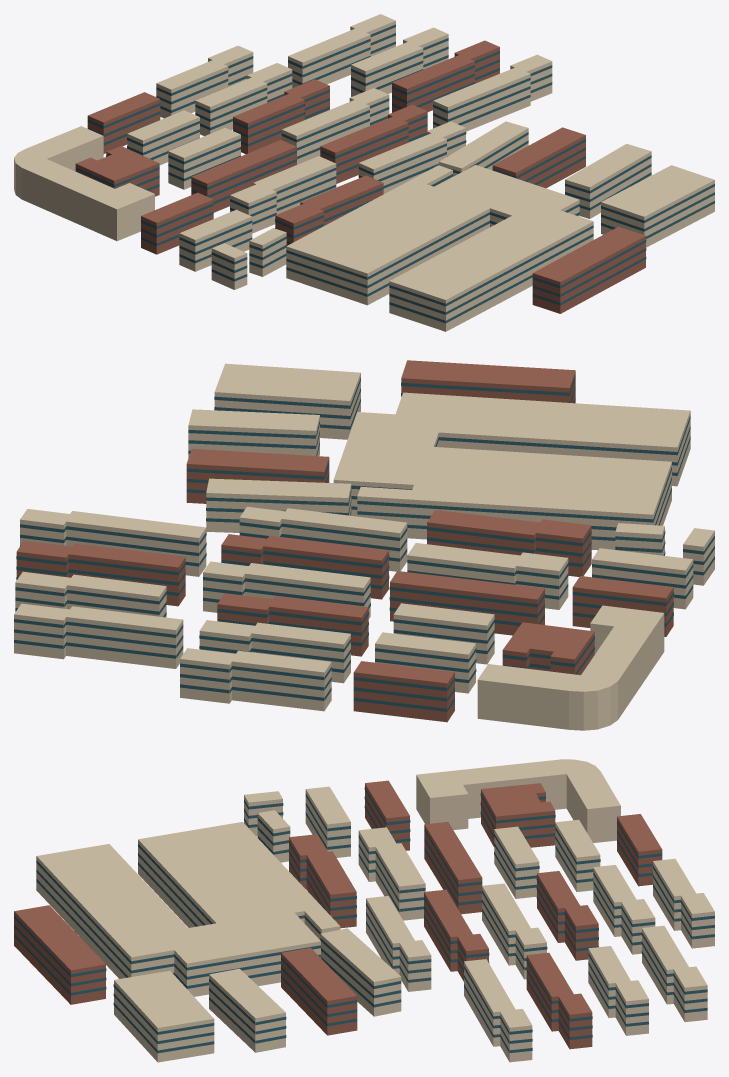
Rendered from city_9_-7.glb.
3 views of the same model, one above another, from view 1: azimuth 30°, elevation 25°; view 2: azimuth 150°, elevation 25°; view 3: azimuth 270°, elevation 25° (orthographic). The views are drawn at different scales.
Parts seen in each view (by area): view 1: city_9_-7; view 2: city_9_-7; view 3: city_9_-7.
Boxes of the visible parts, <box> form: city_9_-7: <box>14,14,714,331</box>; city_9_-7: <box>14,360,714,730</box>; city_9_-7: <box>14,759,714,1062</box>.
Bounding box in the file's own units: 250 × 15 × 276.
